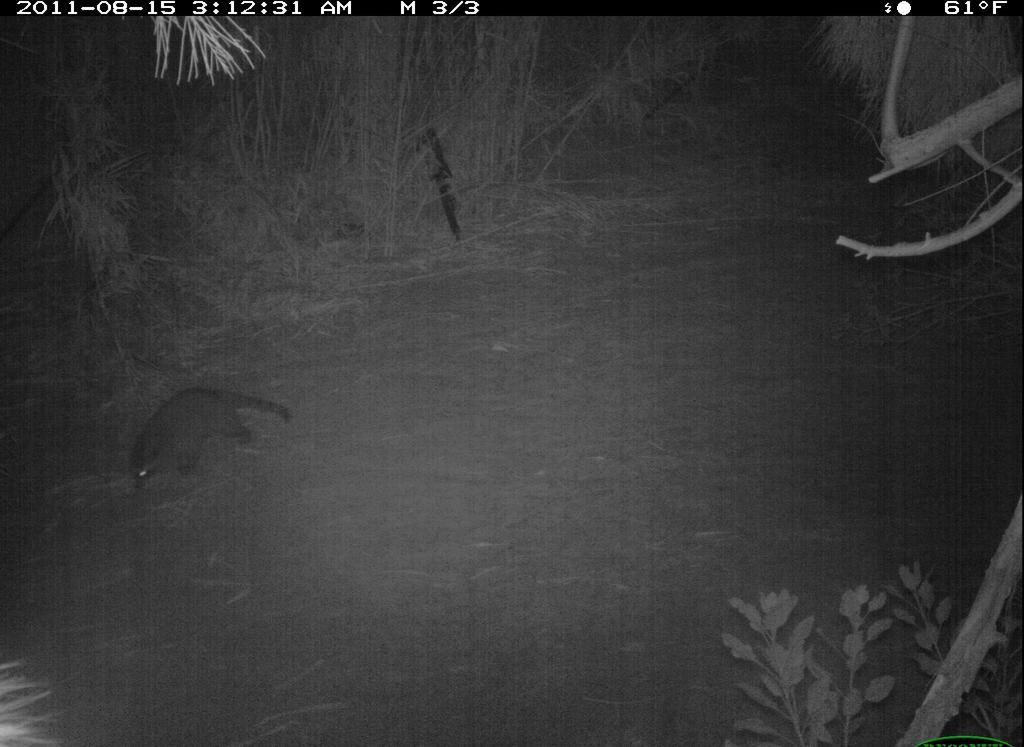raccoon: (103, 364, 294, 492)
